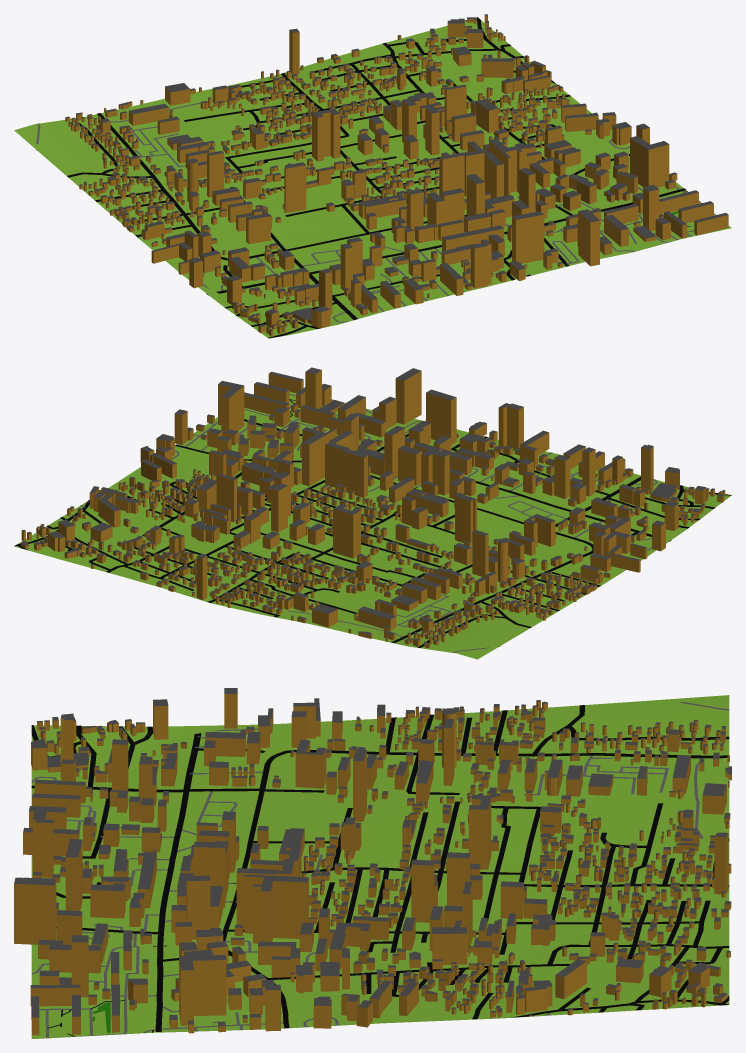
Rendered from tile_10_05.glb.
3 views of the same model, one above another, from view 1: azimuth 30°, elevation 25°; view 2: azimuth 150°, elevation 25°; view 3: azimuth 270°, elevation 25° (orthographic). The views are drawn at different scales.
Parts seen in each view (by area): view 1: Ub_small.osm_buildings_10_05, Terrain_10_05, Ub_small.osm_roads_residential_10_05, Ub_small.osm_roads_service_10_05, Ub_small.osm_roads_secondary_10_05; view 2: Ub_small.osm_buildings_10_05, Terrain_10_05, Ub_small.osm_roads_residential_10_05, Ub_small.osm_roads_service_10_05, Ub_small.osm_roads_secondary_10_05; view 3: Ub_small.osm_buildings_10_05, Terrain_10_05, Ub_small.osm_roads_residential_10_05, Ub_small.osm_roads_service_10_05, Ub_small.osm_roads_secondary_10_05, Ub_small.osm_roads_primary_10_05.
Part boxes in pixels (<box>): Ub_small.osm_buildings_10_05: <box>65,14,728,336</box>; Terrain_10_05: <box>14,17,731,338</box>; Ub_small.osm_roads_residential_10_05: <box>67,17,629,338</box>; Ub_small.osm_roads_service_10_05: <box>36,100,715,322</box>; Ub_small.osm_roads_secondary_10_05: <box>97,113,686,274</box>; Ub_small.osm_buildings_10_05: <box>21,367,725,648</box>; Terrain_10_05: <box>14,391,730,659</box>; Ub_small.osm_roads_residential_10_05: <box>14,433,731,647</box>; Ub_small.osm_roads_service_10_05: <box>80,394,657,652</box>; Ub_small.osm_roads_secondary_10_05: <box>244,419,593,642</box>; Ub_small.osm_buildings_10_05: <box>14,688,731,1035</box>; Terrain_10_05: <box>31,695,729,1038</box>; Ub_small.osm_roads_residential_10_05: <box>31,705,729,1028</box>; Ub_small.osm_roads_service_10_05: <box>31,702,729,1038</box>; Ub_small.osm_roads_secondary_10_05: <box>155,750,728,1031</box>; Ub_small.osm_roads_primary_10_05: <box>31,733,201,792</box>.
Size of the model in its own units: 1014 by 119 by 957.
